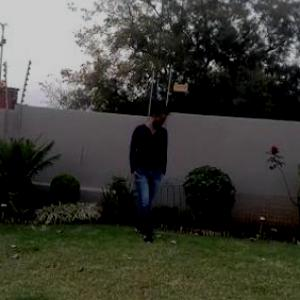follow: (124, 102, 169, 244)
